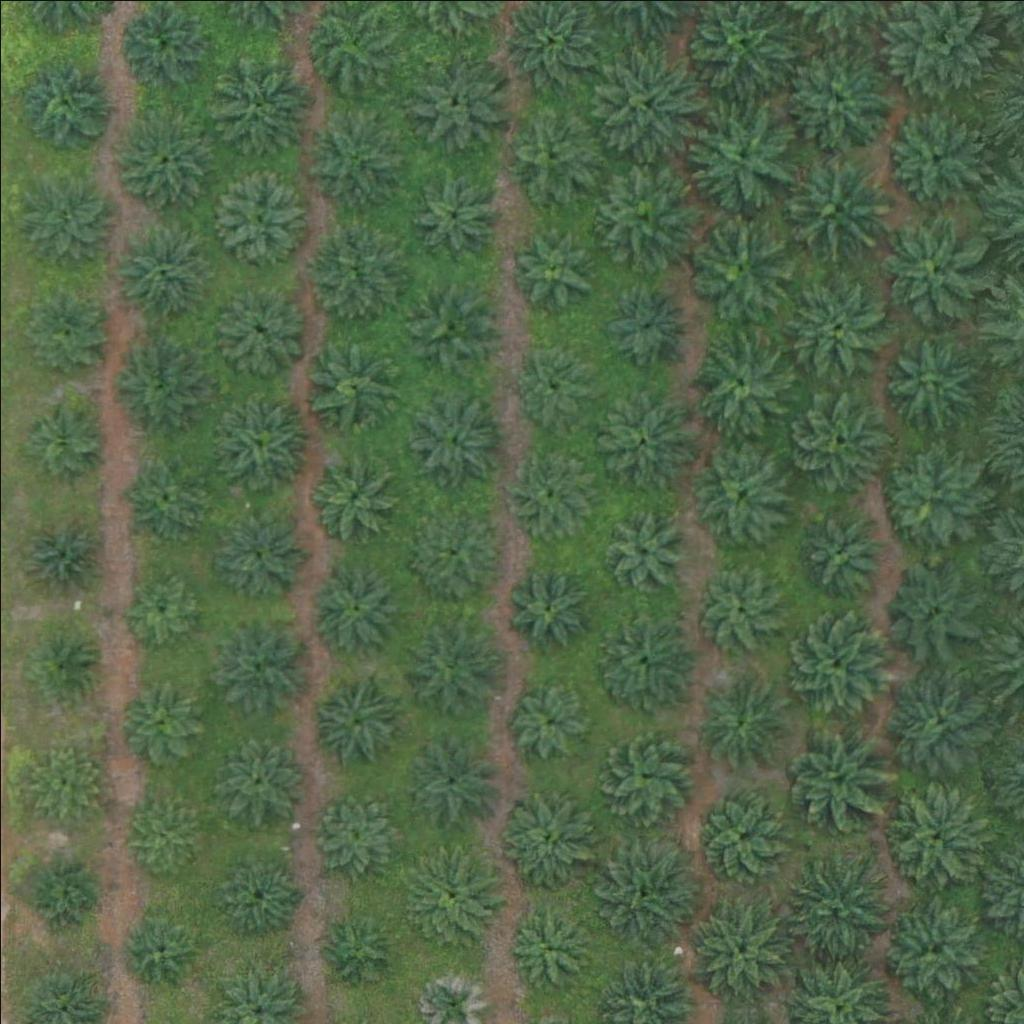Kelapa_Sawit: (774, 849, 887, 963), (780, 718, 893, 831), (778, 608, 891, 721), (686, 98, 799, 211), (588, 46, 701, 159), (588, 833, 700, 947), (875, 211, 987, 324), (780, 272, 892, 385), (773, 145, 885, 258), (780, 39, 892, 152), (880, 899, 980, 1000), (396, 846, 496, 947), (213, 612, 313, 713), (308, 781, 408, 882), (308, 671, 408, 772), (402, 731, 502, 832), (589, 390, 689, 491), (691, 671, 791, 772), (690, 443, 790, 544), (690, 326, 790, 427), (786, 389, 886, 490), (887, 784, 987, 885), (890, 672, 990, 773), (881, 556, 981, 657), (880, 446, 980, 547), (883, 332, 983, 433), (881, 106, 981, 207), (399, 278, 499, 379), (304, 225, 404, 326), (299, 104, 399, 205), (208, 165, 308, 266), (209, 54, 309, 155), (106, 220, 206, 321), (113, 109, 213, 210), (14, 50, 114, 151), (688, 895, 788, 995), (110, 332, 210, 432), (210, 393, 310, 493), (304, 336, 404, 436), (399, 616, 499, 716), (404, 389, 504, 489), (494, 788, 594, 888), (595, 726, 695, 826), (591, 610, 691, 710), (691, 785, 791, 885), (689, 223, 789, 323), (591, 163, 691, 263), (503, 105, 603, 205), (405, 57, 505, 157), (210, 846, 298, 935), (214, 281, 302, 370), (311, 907, 399, 995), (20, 389, 108, 477), (117, 452, 205, 540), (215, 733, 303, 821), (216, 508, 304, 596), (503, 671, 591, 759), (794, 507, 882, 595), (409, 168, 497, 256), (120, 680, 207, 768), (17, 508, 104, 596), (312, 560, 399, 648), (309, 449, 396, 537), (409, 500, 496, 588), (597, 508, 684, 596), (695, 564, 782, 652), (21, 288, 108, 376), (21, 173, 108, 261), (509, 909, 584, 985), (507, 566, 582, 642), (509, 455, 584, 531), (606, 285, 681, 361), (512, 232, 587, 308), (119, 909, 194, 984), (121, 567, 196, 642), (29, 746, 104, 821), (22, 854, 97, 929), (127, 798, 202, 873), (517, 341, 592, 416), (36, 635, 99, 698)
